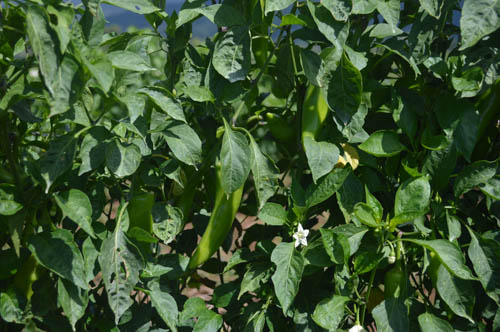ChiliPepper: (190, 164, 243, 276), (297, 81, 328, 146), (126, 191, 154, 244)
